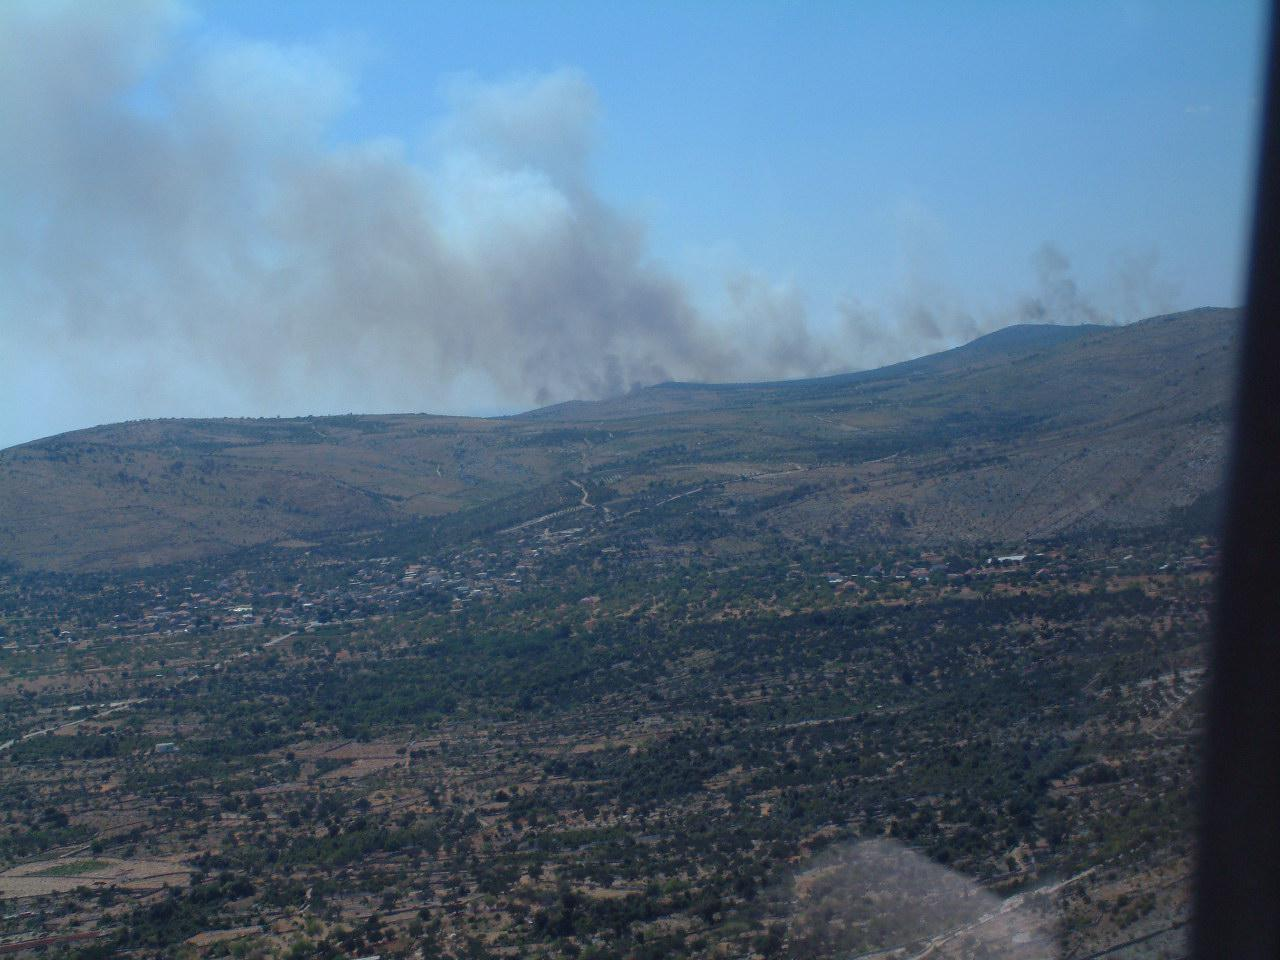Smoke: (4, 6, 894, 405)
